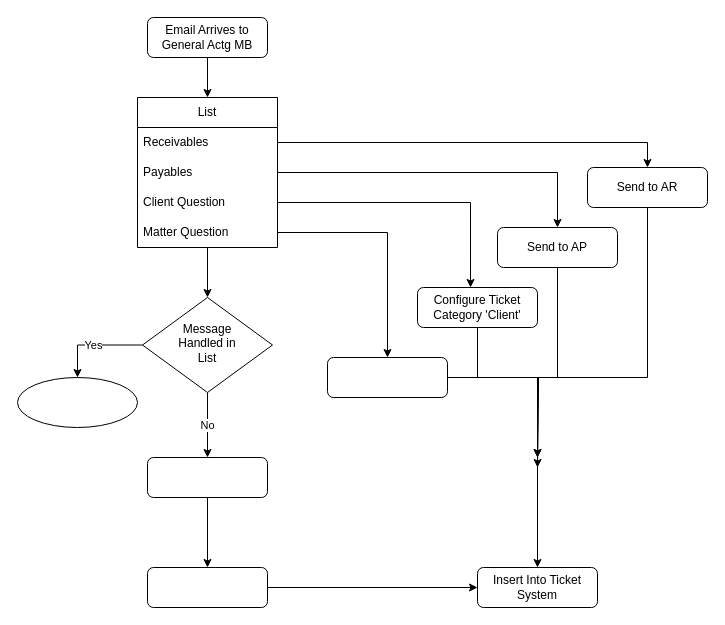
This 725x625 diagram has some shape labels left out. The shapes that lost their labels are listed below. From the top down, each one's box as (x1, y1, x2, y2) in pixels, then its label:
(326, 356, 448, 398): Configure Ticket Category 'Matter'
(16, 376, 138, 428): End Process
(146, 456, 268, 498): Configure Ticket Category 'Unknown'
(146, 566, 268, 608): Send General Notification
